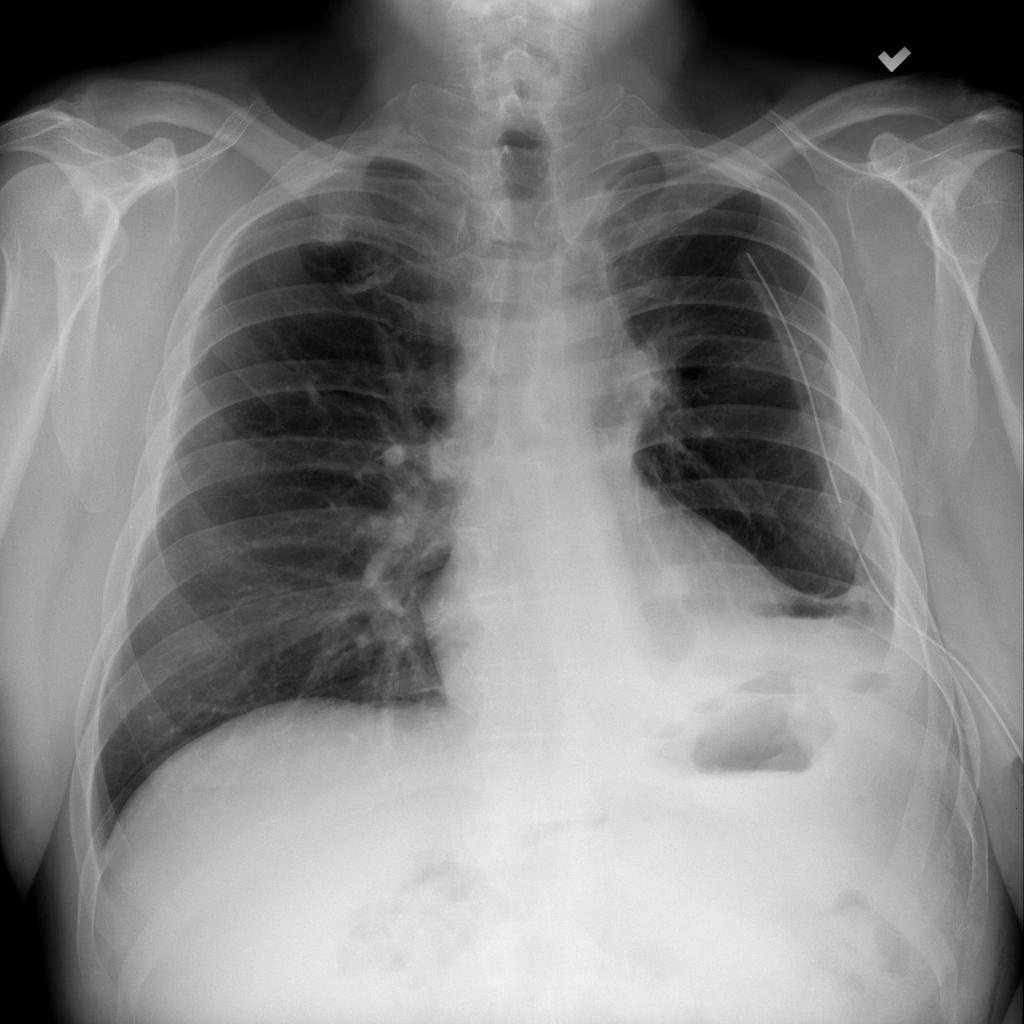nodule: (636, 547, 706, 617)
